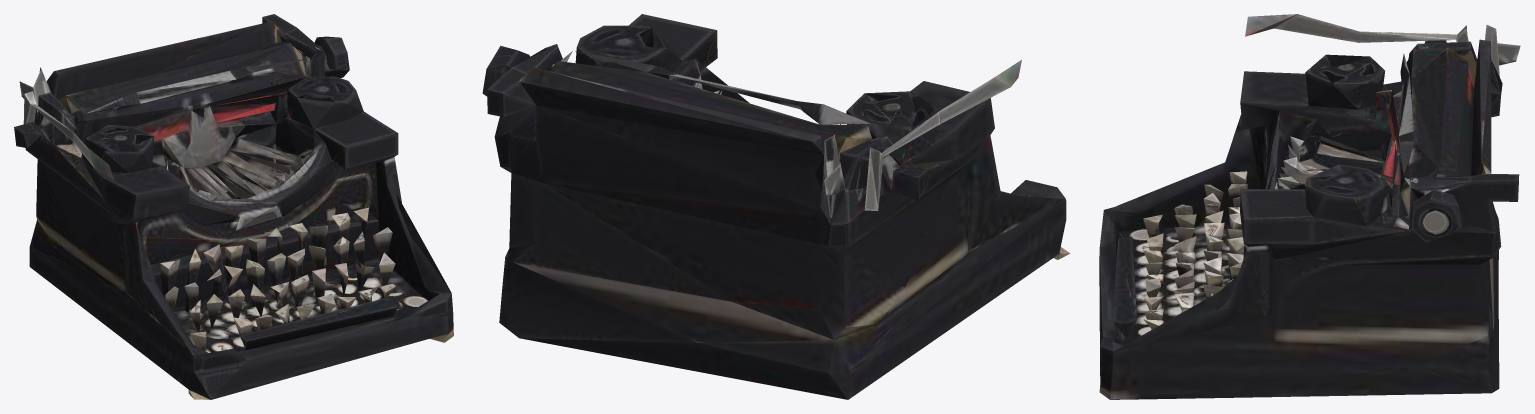
The model's file is maquina_escrever.glb.
The picture shows the model from 3 angles, left to right: view 1: azimuth 30°, elevation 25°; view 2: azimuth 150°, elevation 25°; view 3: azimuth 270°, elevation 25°; orthographic projection. The views are drawn at different scales.
Parts seen in each view (by area): view 1: Mesh_0; view 2: Mesh_0; view 3: Mesh_0.
Boxes of the visible parts, x1,y1,x2,y2 form: Mesh_0: (14, 14, 453, 399); Mesh_0: (482, 14, 1069, 399); Mesh_0: (1099, 14, 1520, 399).
Bounding box in the file's own units: 0.4527 × 0.28 × 0.4507.
Materials: 1 (1 with a texture image).
